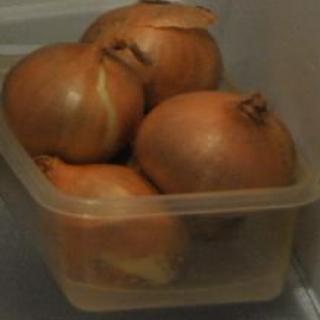onion: (0, 1, 320, 320)
